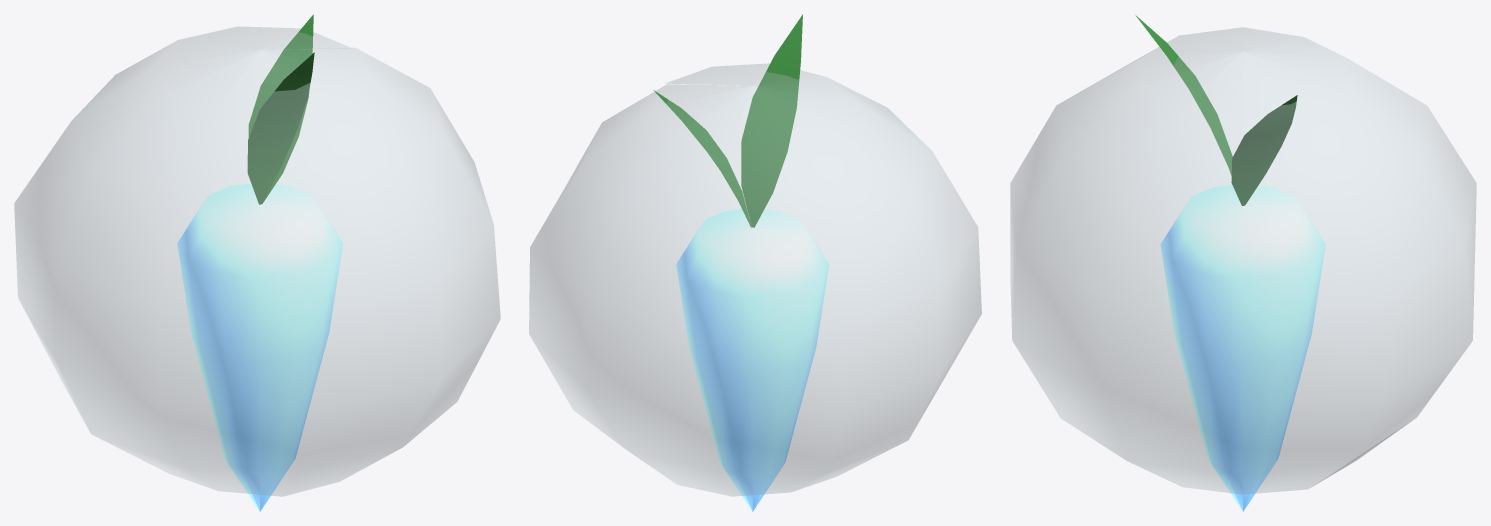
The model's file is fruit-carrot-frozen.gltf.
3 renders of one model, left to right at view 1: azimuth 30°, elevation 25°; view 2: azimuth 150°, elevation 25°; view 3: azimuth 270°, elevation 25°, orthographic. The views are drawn at different scales.
Size of the model in its own units: 0.5399 by 0.6143 by 0.5217.
